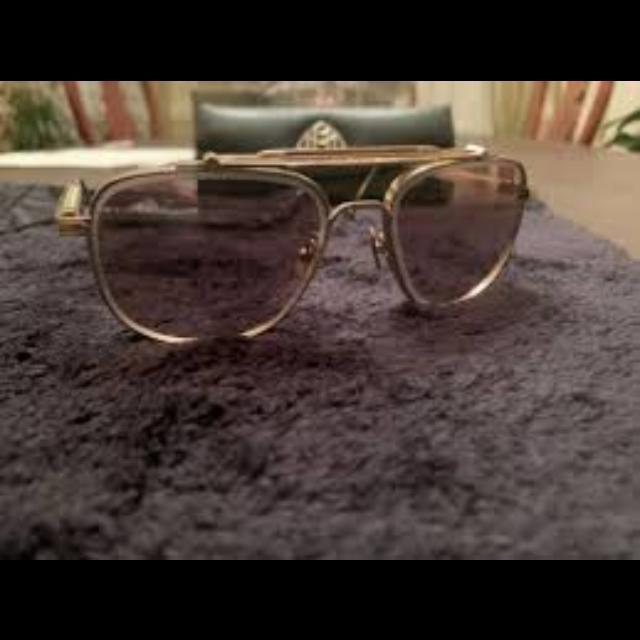glasses: (55, 144, 529, 342)
